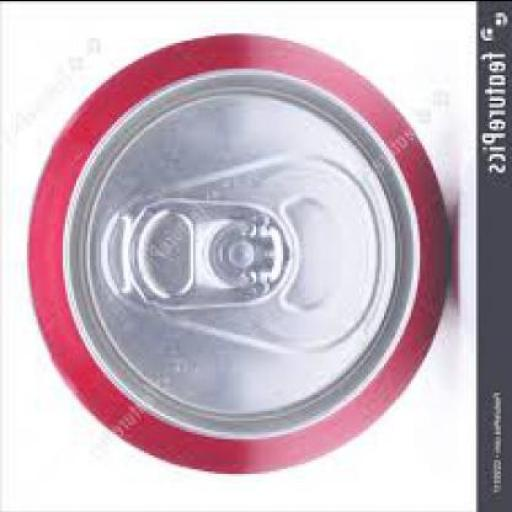metal: (27, 30, 447, 471)
